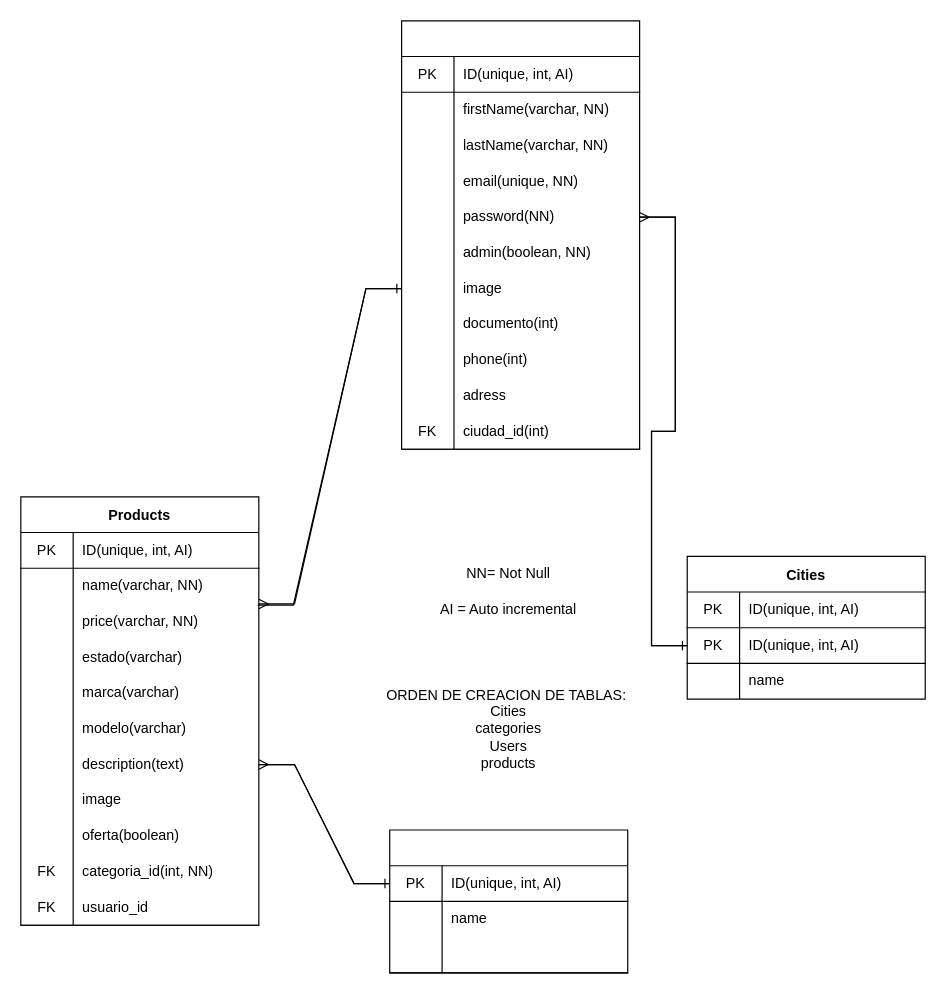
Image size: 946x994. Some labels were removed from this diagram. Each missing label, with the box of its shape:
Categories: (389, 829, 628, 973)
Users: (400, 20, 640, 449)
